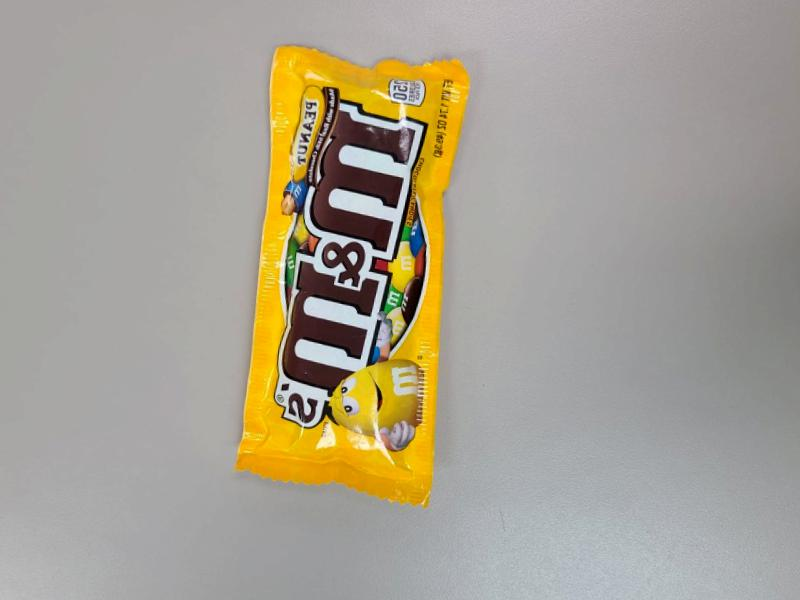m&m: (251, 43, 447, 486)
